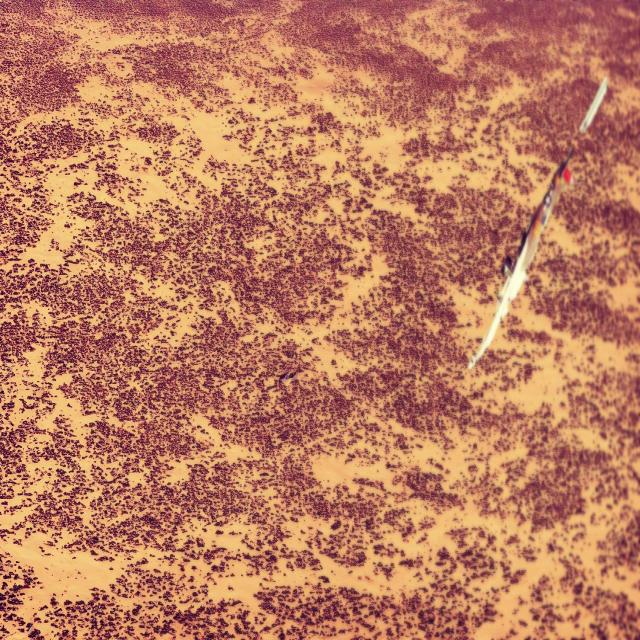airplane: (467, 75, 608, 372)
